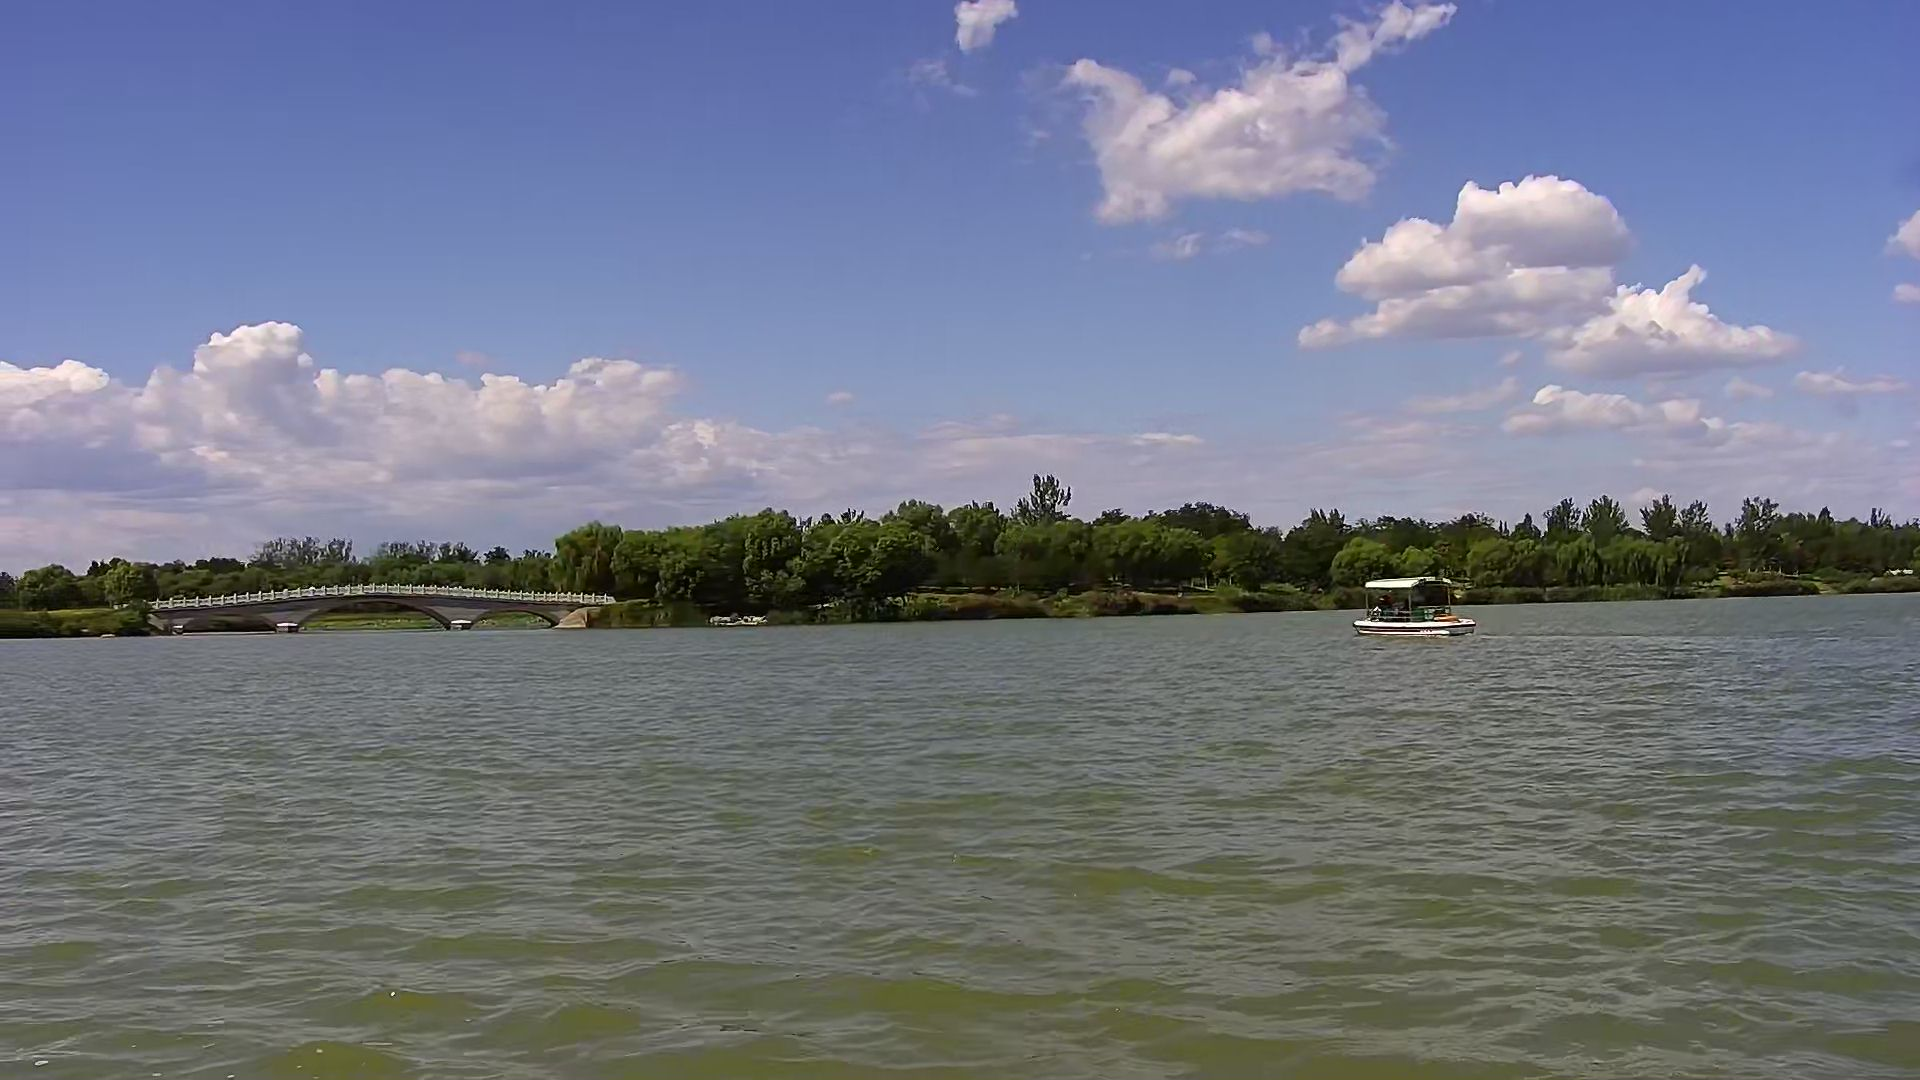boat: (1358, 574, 1473, 637)
bridge: (156, 580, 585, 628)
